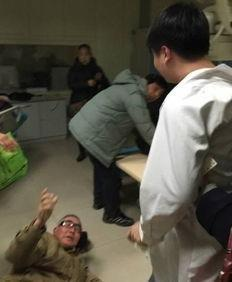Fall-Detected: (0, 175, 111, 282)
